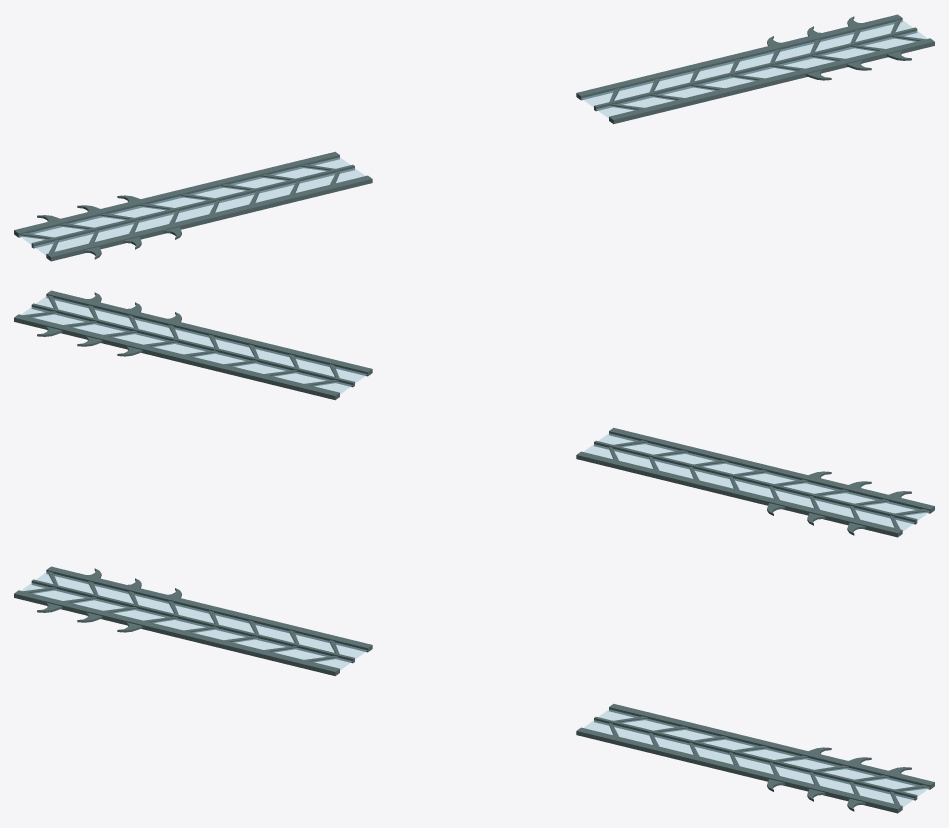
The model's file is Bridge.fbx.
3 renders of one model, top to bottom at view 1: azimuth 30°, elevation 25°; view 2: azimuth 150°, elevation 25°; view 3: azimuth 330°, elevation 25°, orthographic.
Visible parts, largest first — view 1: Plane.075, Plane.076, Plane.072, Plane.073, Plane.074; view 2: Plane.075, Plane.076, Plane.072, Plane.073, Plane.074; view 3: Plane.075, Plane.076, Plane.072, Plane.073, Plane.074.
Part boxes in pixels (x1,y1,x2,y2): Plane.075: (19,20,927,255); Plane.076: (14,14,934,261); Plane.072: (31,27,917,248); Plane.073: (20,19,925,253); Plane.074: (37,16,911,259); Plane.075: (21,296,929,531); Plane.076: (14,290,934,537); Plane.072: (31,303,917,524); Plane.073: (23,295,928,529); Plane.074: (37,292,911,535); Plane.075: (21,572,929,807); Plane.076: (14,566,934,813); Plane.072: (31,579,917,800); Plane.073: (23,571,928,805); Plane.074: (37,568,911,811).
Bounding box in the file's own units: 55 × 0.25 × 6.2.
